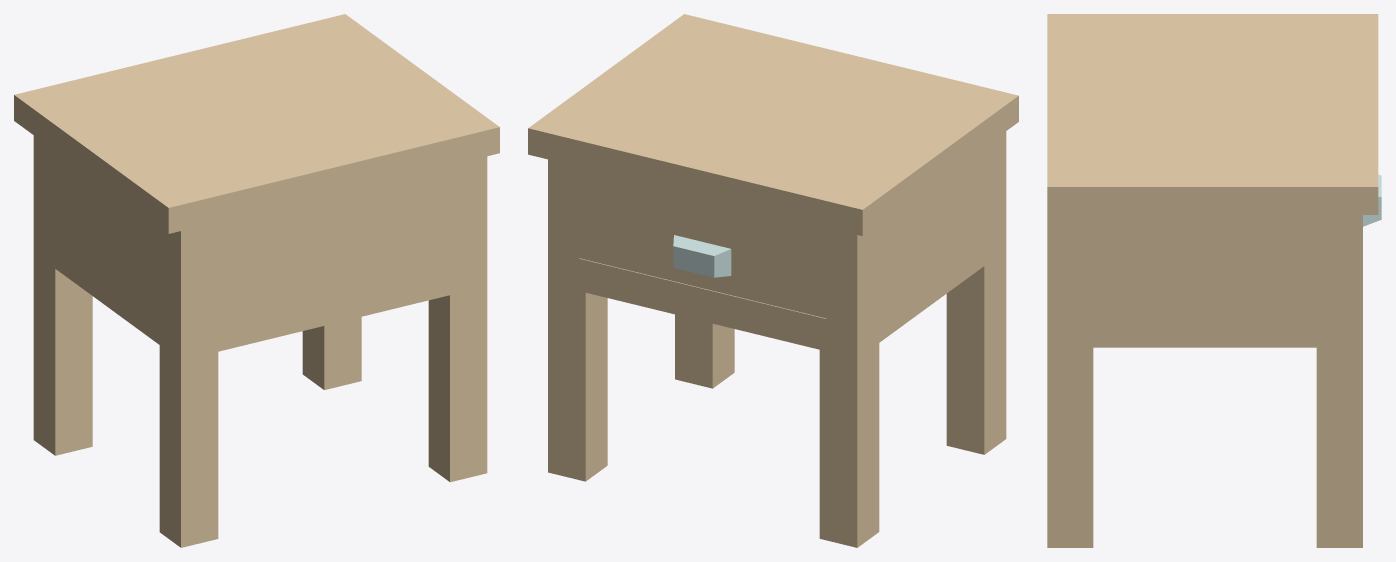
File: cabinetBedDrawerTable.glb
3 views of the same model, side by side, from view 1: azimuth 30°, elevation 25°; view 2: azimuth 150°, elevation 25°; view 3: azimuth 270°, elevation 25° (orthographic). The views are drawn at different scales.
Visible parts, largest first — view 1: cabinetBedDrawerTable; view 2: cabinetBedDrawerTable; view 3: cabinetBedDrawerTable.
Boxes of the visible parts, x1,y1,x2,y2 form: cabinetBedDrawerTable: (14,14,499,547); cabinetBedDrawerTable: (528,14,1018,547); cabinetBedDrawerTable: (1047,14,1381,547).
Bounding box in the file's own units: 2.66 × 2.63 × 2.17.
